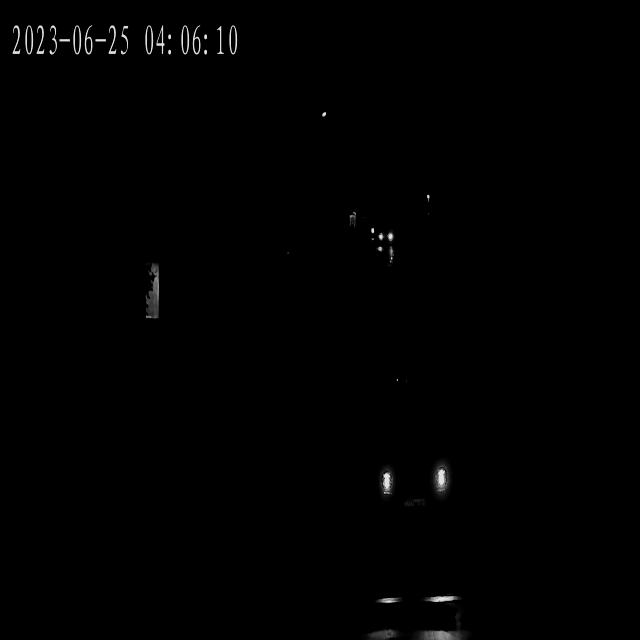Car: (365, 414, 458, 517), (375, 228, 395, 247)
